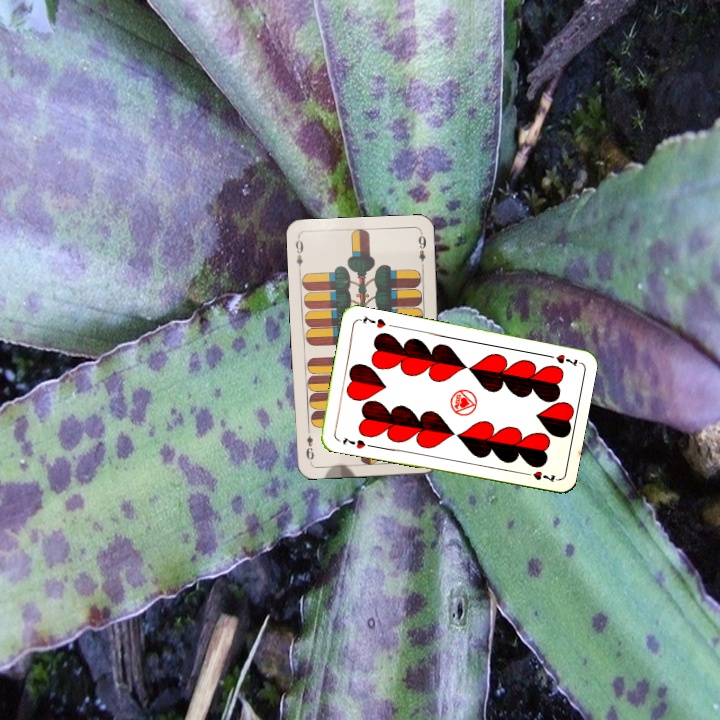E9: (291, 234, 306, 275)
H7: (541, 350, 582, 369), (339, 433, 368, 451)
